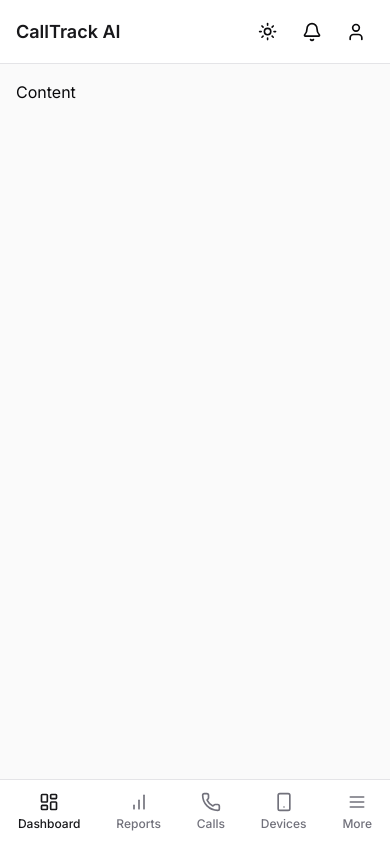
Scenario: AppShell › Mobile view › should have logout in bottom nav More menu
Click the button with test id "bottom-nav-more": (357, 812) [330,784,384,840]
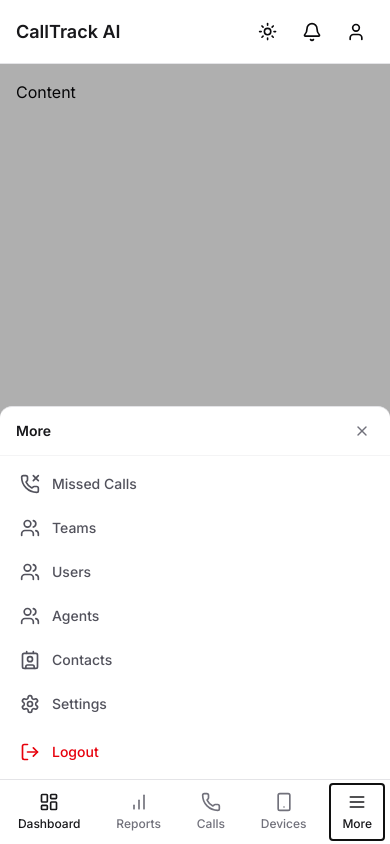
Expected: the button with test id "bottom-nav-logout" is shown, [8,732,382,772]
